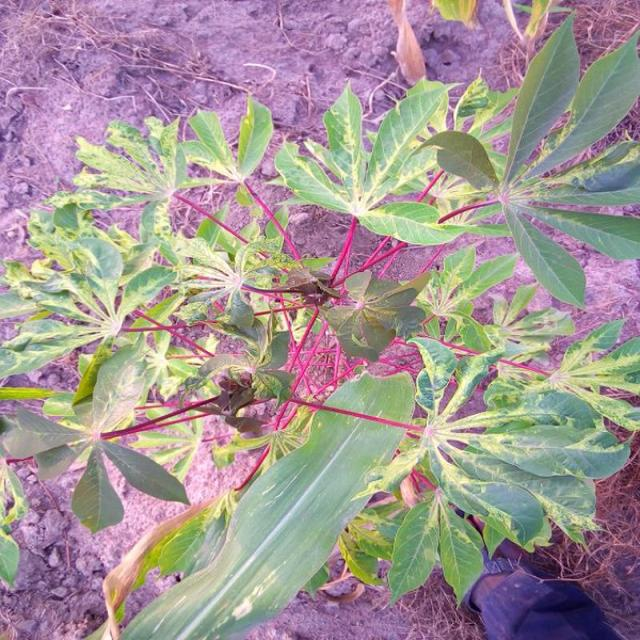cassava leaf: (2, 12, 639, 637), (109, 368, 417, 638)
